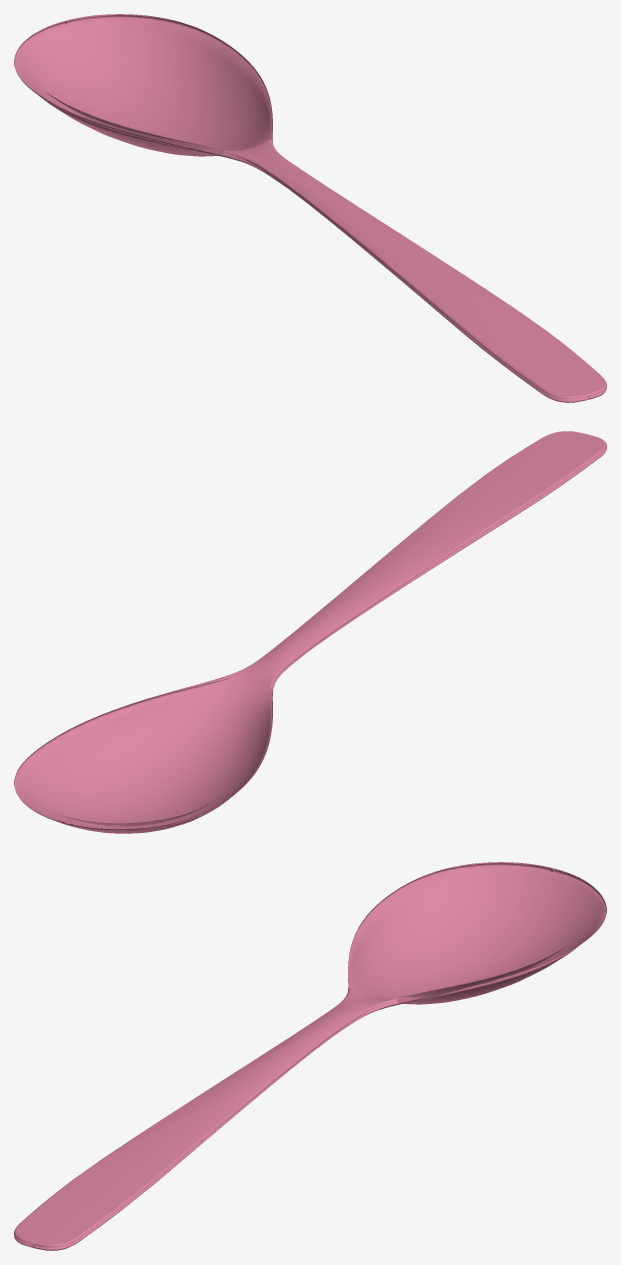
The model's file is teaspoon_mopsig.glb.
3 views of the same model, one above another, from view 1: azimuth 30°, elevation 25°; view 2: azimuth 150°, elevation 25°; view 3: azimuth 330°, elevation 25° (orthographic).
Visible parts, largest first — view 1: Mesh_0; view 2: Mesh_0; view 3: Mesh_0.
Part boxes in pixels (bbox=[...]): Mesh_0: bbox=[14, 14, 606, 402]; Mesh_0: bbox=[14, 431, 606, 833]; Mesh_0: bbox=[14, 862, 606, 1250].
Bounding box in the file's own units: 0.0304 × 0.00895 × 0.1422.
